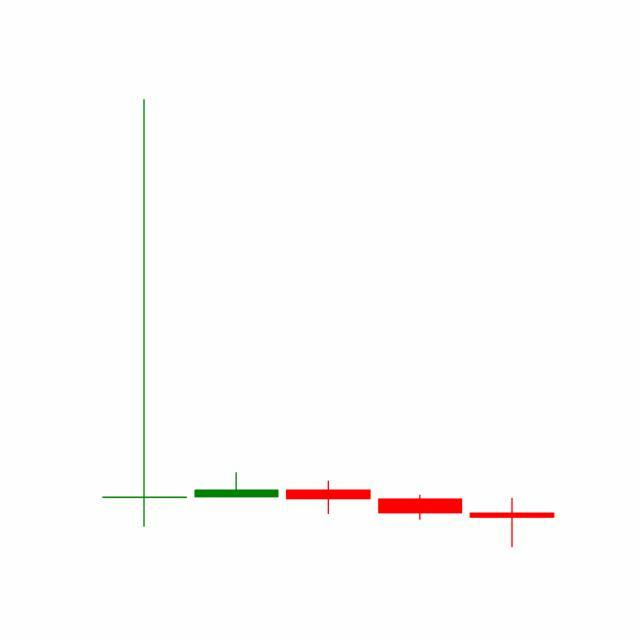Spinning Top: (466, 497, 559, 549)
